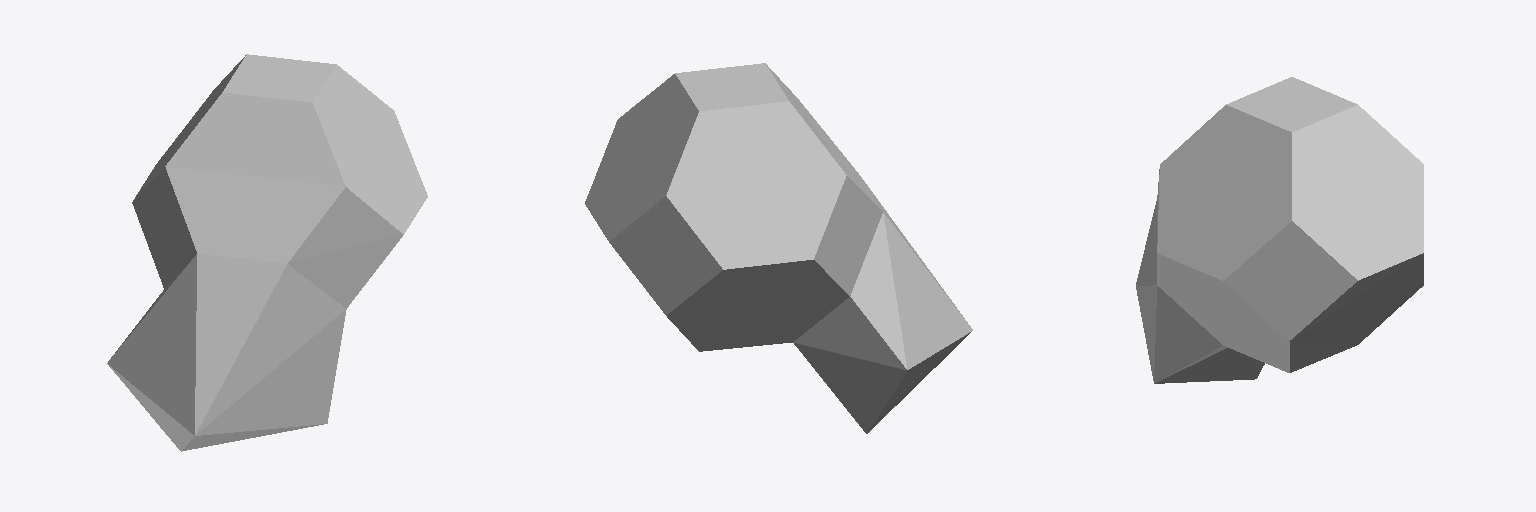
The model's file is fcc.test1.obj.
3 views of the same model, side by side, from view 1: azimuth 30°, elevation 25°; view 2: azimuth 150°, elevation 25°; view 3: azimuth 270°, elevation 25° (orthographic).
Parts seen in each view (by area): view 1: Obj2_Mesh2, Obj1_Mesh1; view 2: Obj2_Mesh2, Obj1_Mesh1; view 3: Obj2_Mesh2, Obj1_Mesh1.
Boxes of the visible parts, <box> form: Obj2_Mesh2: <box>132,54,427,308</box>; Obj1_Mesh1: <box>107,253,346,451</box>; Obj2_Mesh2: <box>585,63,882,351</box>; Obj1_Mesh1: <box>793,177,972,433</box>; Obj2_Mesh2: <box>1157,77,1423,372</box>; Obj1_Mesh1: <box>1136,201,1264,383</box>.
Bounding box in the file's own units: 1.52 × 1.68 × 1.32.